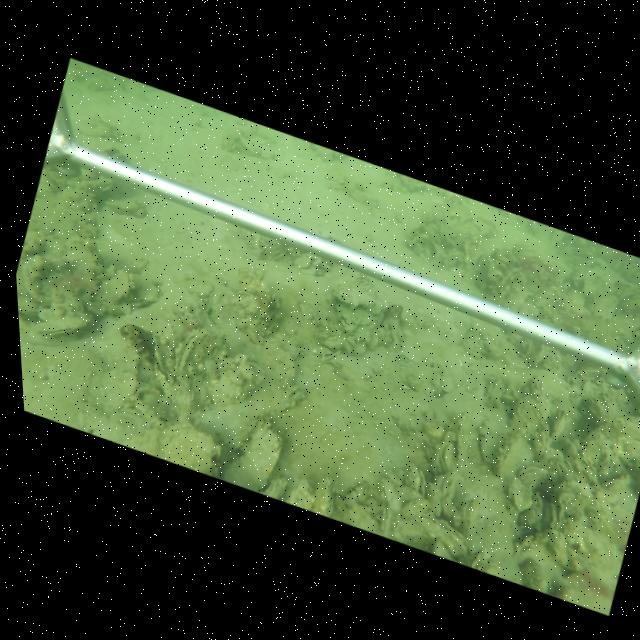Oyster-Closed: (217, 417, 287, 489), (159, 421, 221, 477), (210, 362, 265, 409), (328, 274, 389, 315), (28, 308, 94, 338), (496, 436, 535, 478), (87, 269, 133, 304), (311, 473, 335, 517), (127, 282, 161, 307), (479, 432, 499, 464), (549, 410, 568, 443), (380, 479, 401, 508), (379, 499, 396, 532)
Oyster-Indeterminate: (507, 394, 550, 439)
Oyster-Open: (172, 327, 217, 392), (415, 510, 471, 557), (543, 497, 568, 529), (404, 462, 426, 496), (436, 439, 456, 473), (256, 241, 287, 261)
